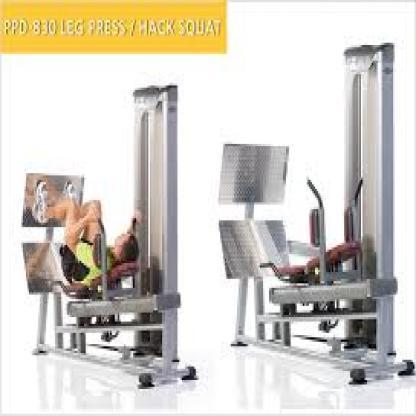leg press: (208, 37, 416, 399), (12, 73, 199, 394)
